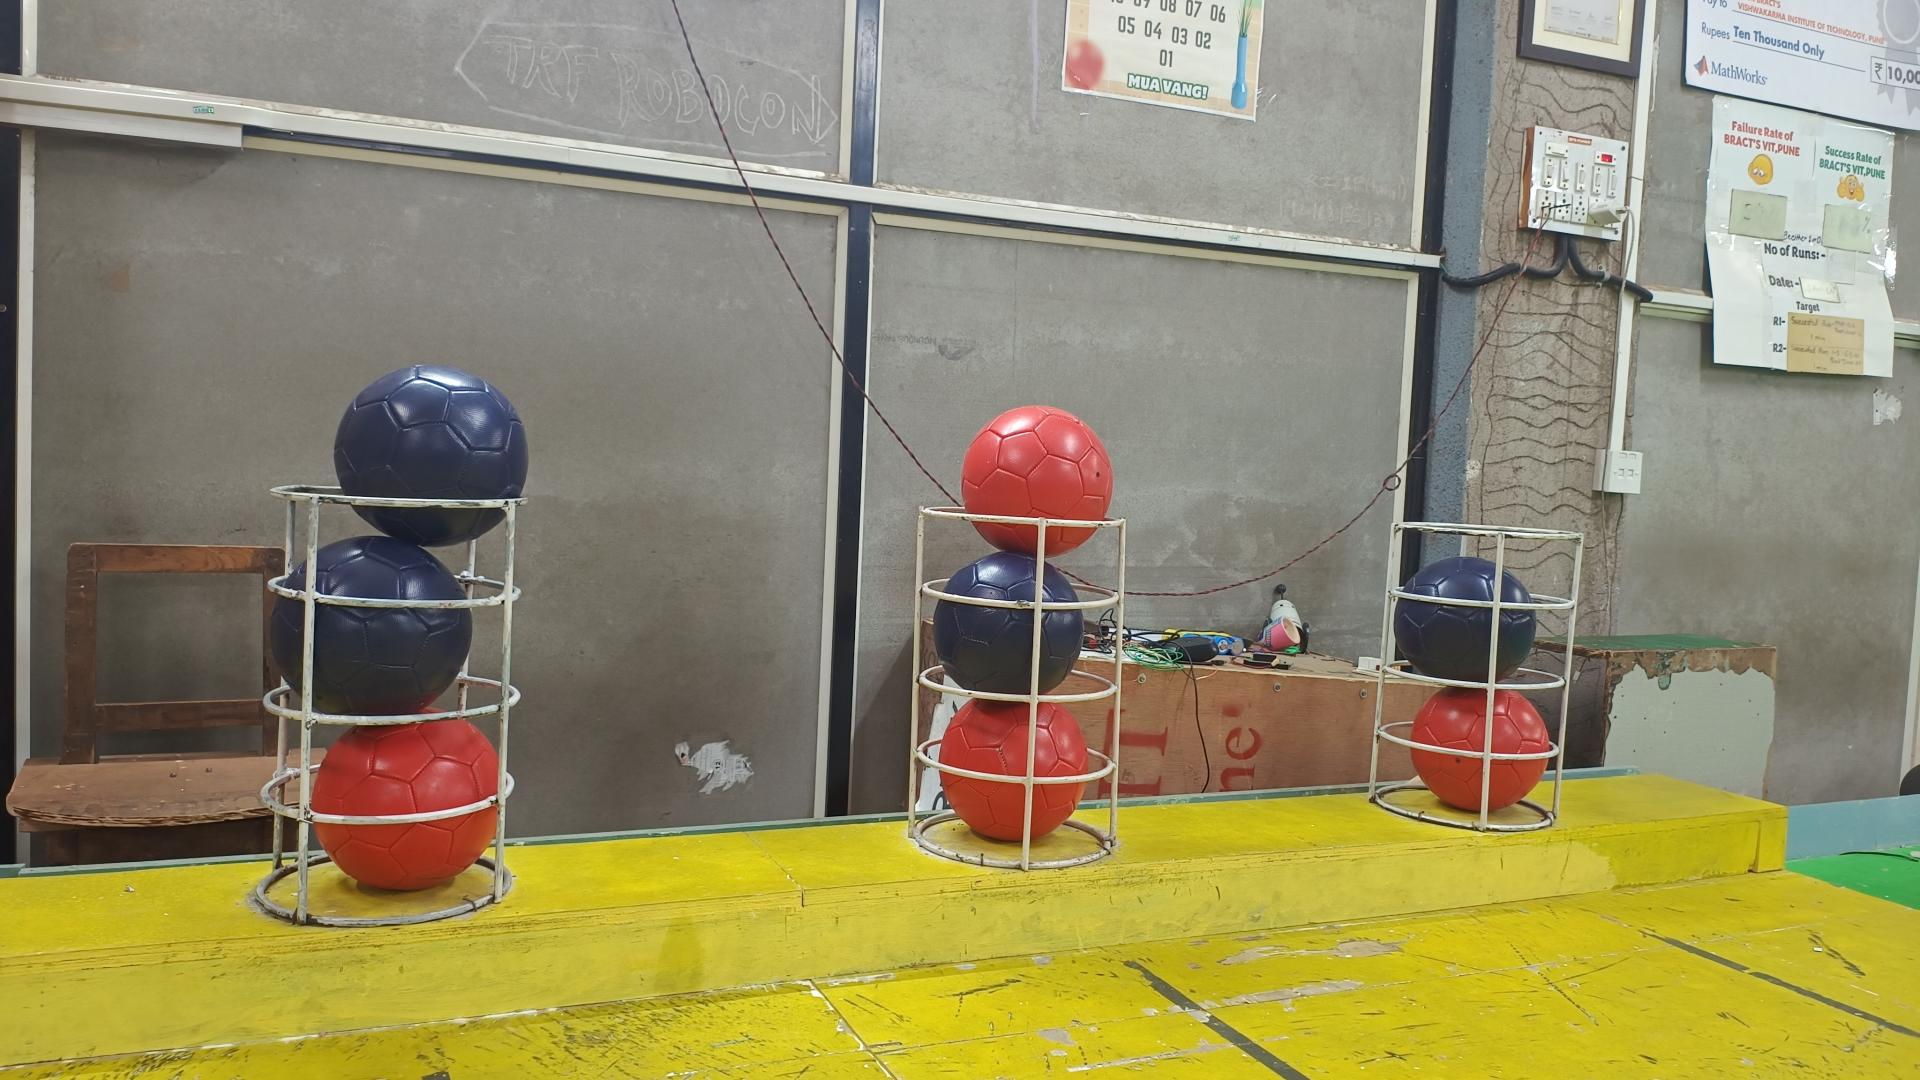dhoka: (268, 538, 469, 717), (331, 365, 526, 549), (935, 550, 1085, 696), (1394, 556, 1536, 684)
laale: (309, 723, 500, 891), (959, 404, 1113, 558), (936, 702, 1091, 844), (1410, 688, 1552, 812)
